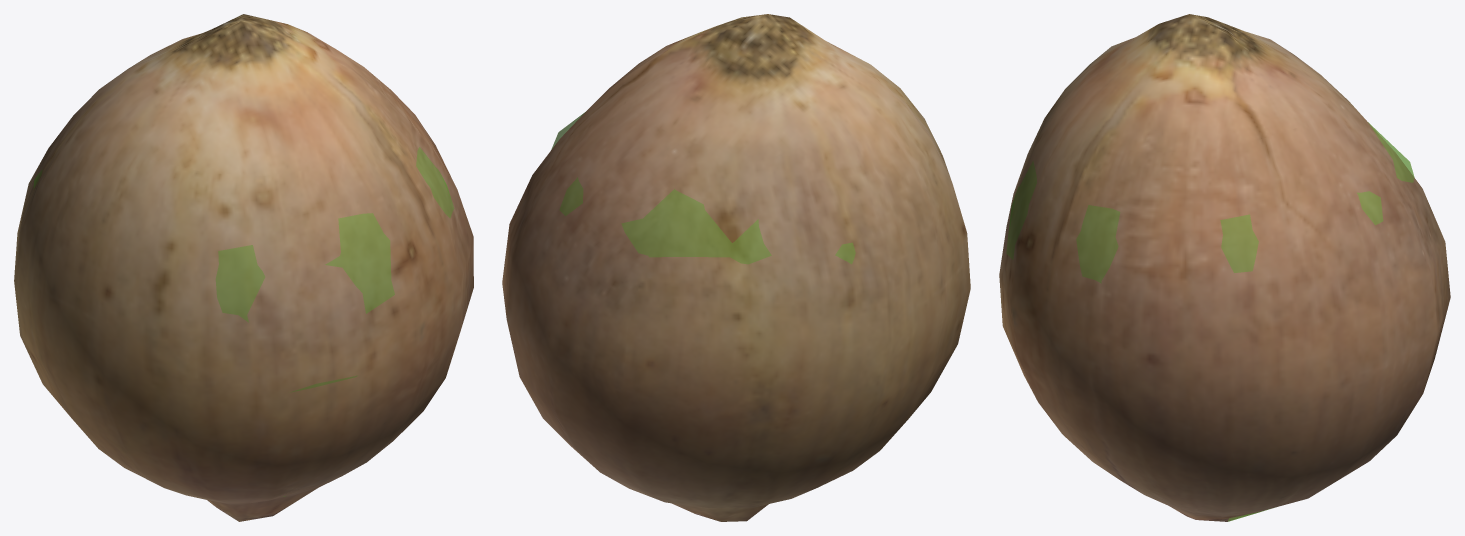
The model's file is pg_Onion_03.fbx.
The picture shows the model from 3 angles, left to right: view 1: azimuth 30°, elevation 25°; view 2: azimuth 150°, elevation 25°; view 3: azimuth 270°, elevation 25°; orthographic projection. The views are drawn at different scales.
Parts seen in each view (by area): view 1: pg_Onion_03_a_LOD0, pg_Onion_03_a_col; view 2: pg_Onion_03_a_LOD0, pg_Onion_03_a_col; view 3: pg_Onion_03_a_LOD0, pg_Onion_03_a_col.
Part boxes in pixels (box(x1,y1,x2,y2)): pg_Onion_03_a_LOD0: box(14, 14, 473, 521); pg_Onion_03_a_col: box(33, 147, 454, 496); pg_Onion_03_a_LOD0: box(502, 14, 970, 521); pg_Onion_03_a_col: box(551, 111, 855, 264); pg_Onion_03_a_LOD0: box(999, 14, 1450, 521); pg_Onion_03_a_col: box(1001, 122, 1414, 521).
Size of what is drawn, in the model's own units: 7.7 by 9.06 by 7.52.
